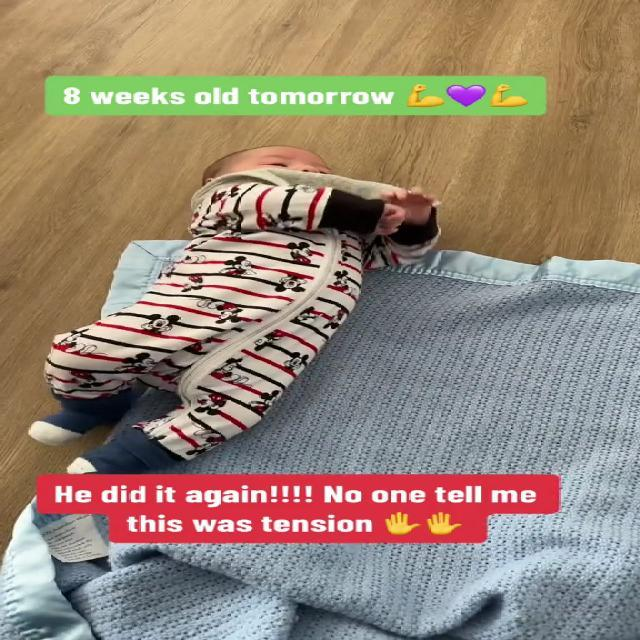baby: (6, 133, 456, 468)
